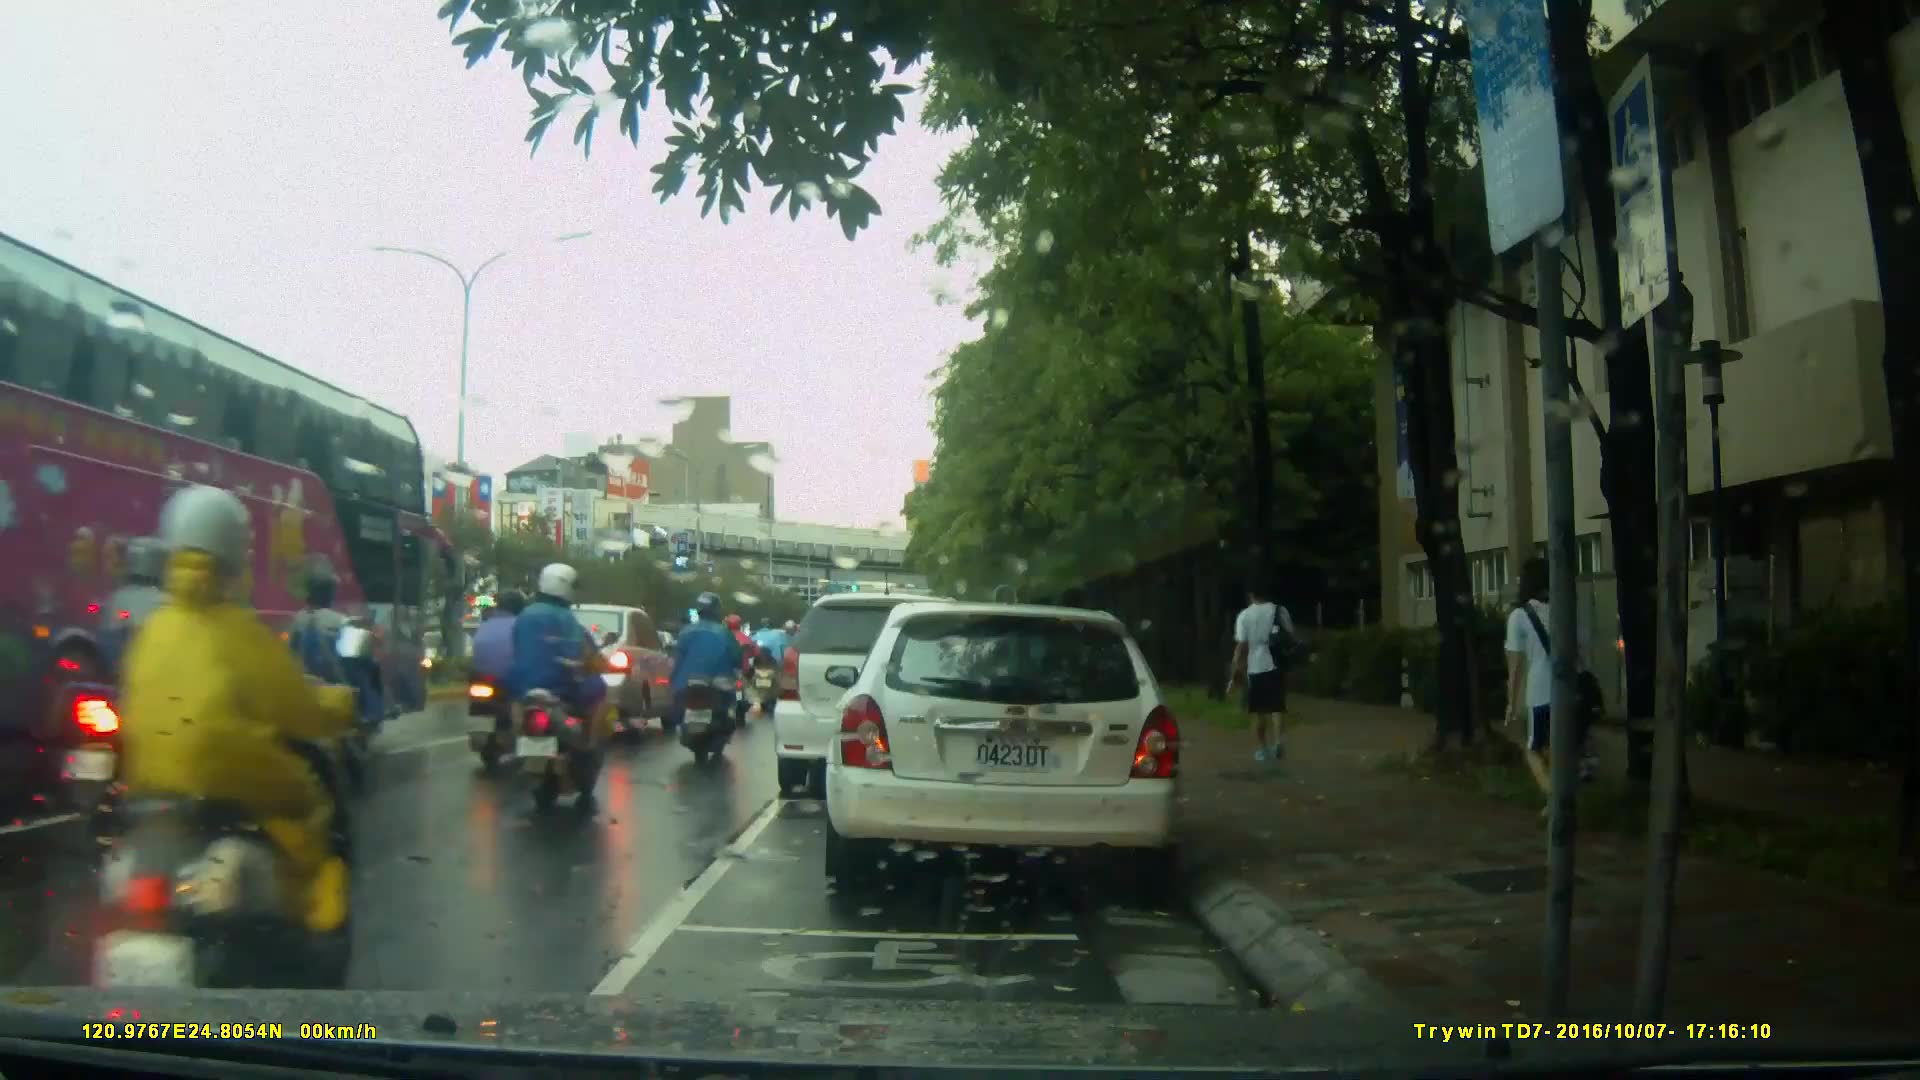pedestrian: (1494, 558, 1596, 848), (1222, 573, 1303, 772)
rider: (102, 487, 362, 1041), (66, 544, 229, 852), (505, 564, 623, 818), (269, 562, 384, 809), (471, 585, 565, 775), (677, 596, 741, 764), (711, 607, 765, 721), (747, 614, 792, 707)
vehicle: (1, 229, 434, 796), (835, 594, 1194, 898), (776, 590, 1026, 784), (523, 602, 688, 746)
